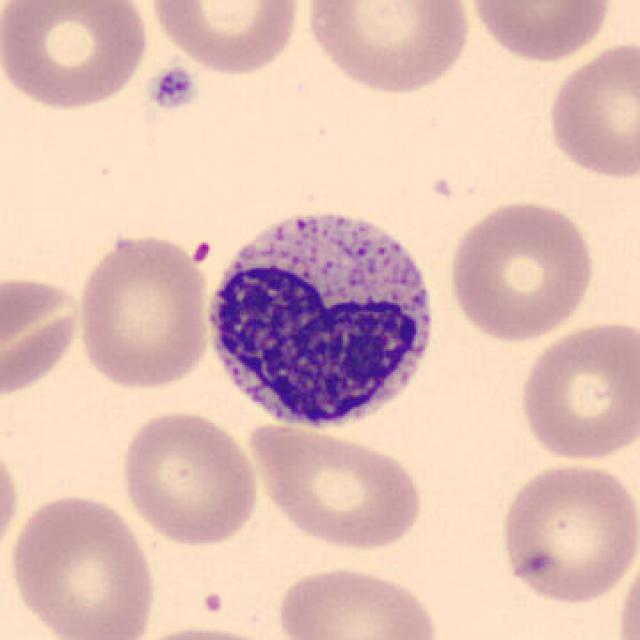Monocyte: (194, 196, 444, 437)
Platelets: (148, 65, 198, 115)
RBC: (73, 229, 217, 395), (5, 488, 162, 640), (247, 422, 427, 554), (443, 196, 599, 344), (494, 459, 638, 609), (116, 406, 260, 550), (512, 316, 638, 464), (2, 0, 155, 113), (304, 0, 475, 97), (541, 39, 639, 183), (270, 561, 443, 638), (144, 0, 306, 78), (0, 270, 84, 398), (461, 0, 619, 65), (128, 620, 295, 640), (615, 539, 640, 640)
